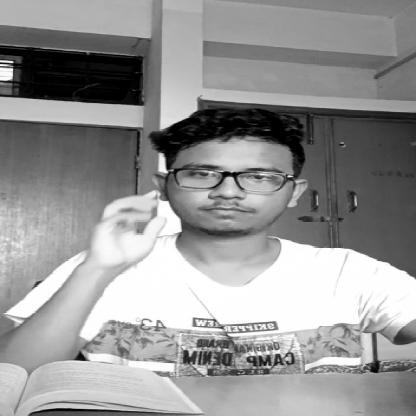Normal: (140, 133, 316, 255), (159, 132, 308, 246)
